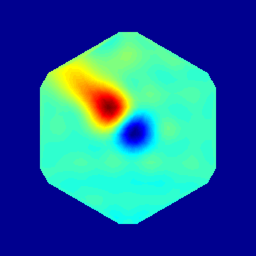ship: (121, 116, 146, 141)
wave: (87, 80, 129, 127)
